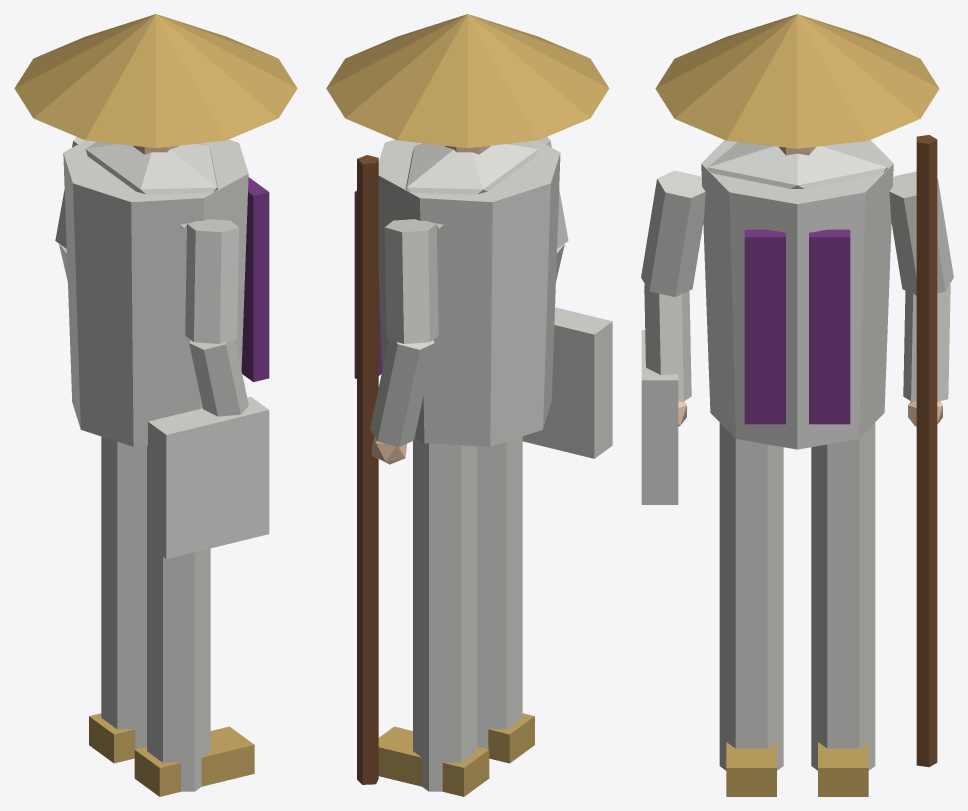
Rendered from pilgrim.glb.
The picture shows the model from 3 angles, left to right: view 1: azimuth 30°, elevation 25°; view 2: azimuth 150°, elevation 25°; view 3: azimuth 270°, elevation 25°; orthographic projection.
Visible parts, largest first — view 1: pilgrim; view 2: pilgrim; view 3: pilgrim.
Boxes of the visible parts, x1,y1,x2,y2 form: pilgrim: (14, 14, 297, 796); pilgrim: (326, 14, 612, 796); pilgrim: (641, 14, 953, 796).
Size of the model in its own units: 0.62 by 1.81 by 0.6826.
